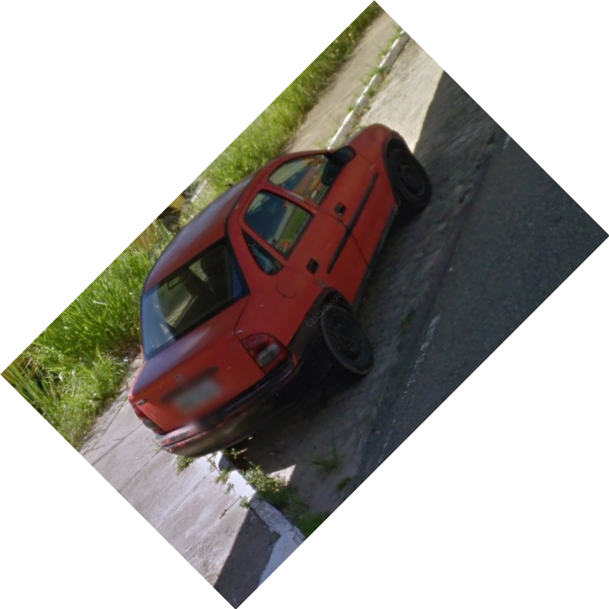car: (118, 122, 434, 464)
